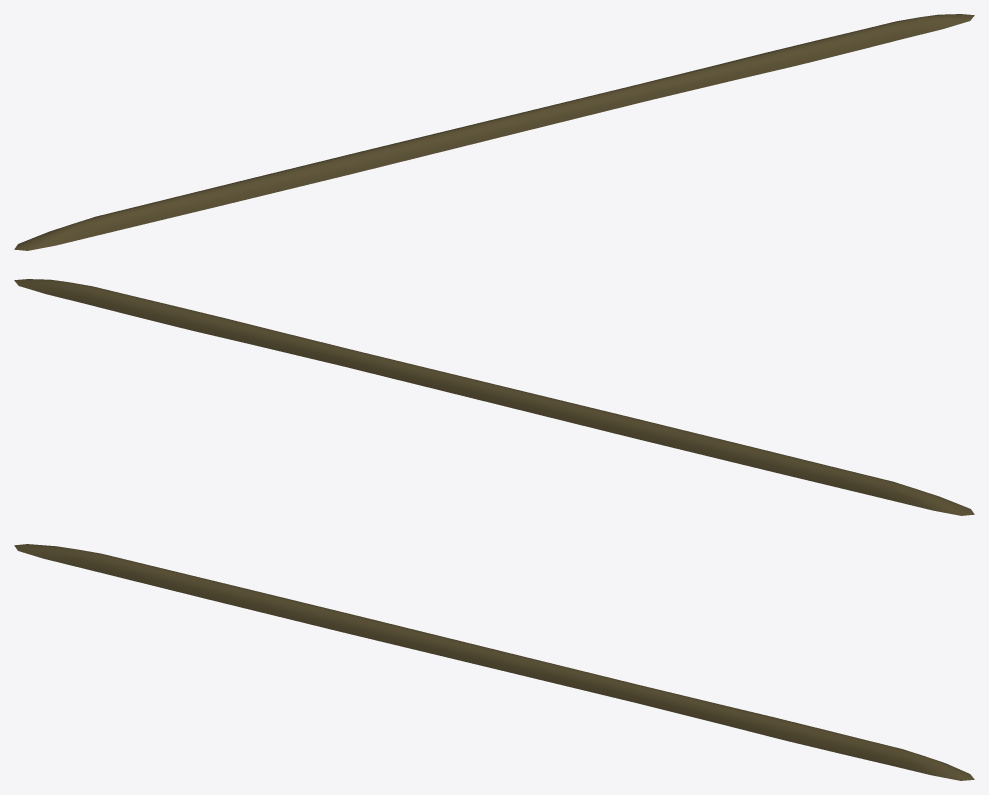
Rendered from planting-zone.glb.
3 renders of one model, top to bottom at view 1: azimuth 30°, elevation 25°; view 2: azimuth 150°, elevation 25°; view 3: azimuth 330°, elevation 25°, orthographic.
Visible parts, largest first — view 1: Farm_Dirt_Level1.001; view 2: Farm_Dirt_Level1.001; view 3: Farm_Dirt_Level1.001.
Part boxes in pixels (x1,y1,x2,y2): Farm_Dirt_Level1.001: (14, 14, 974, 250); Farm_Dirt_Level1.001: (14, 279, 974, 515); Farm_Dirt_Level1.001: (14, 544, 974, 780).
Size of the model in its own units: 12.87 by 0.1481 by 0.336.
